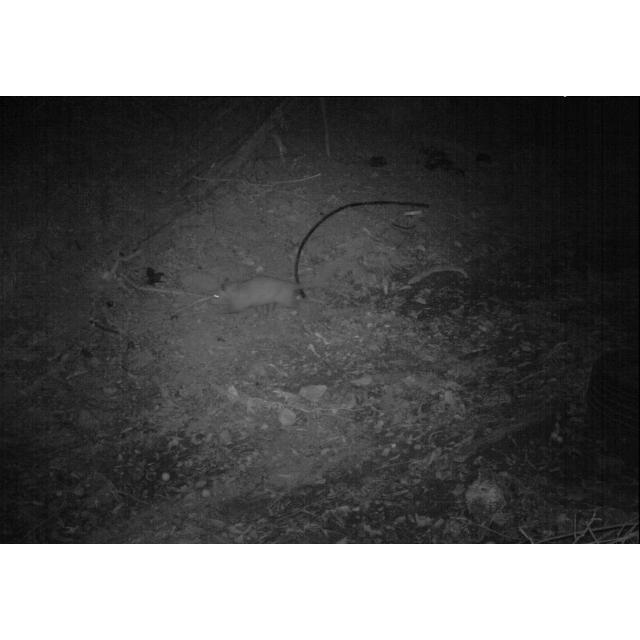animals: (208, 276, 310, 316)
